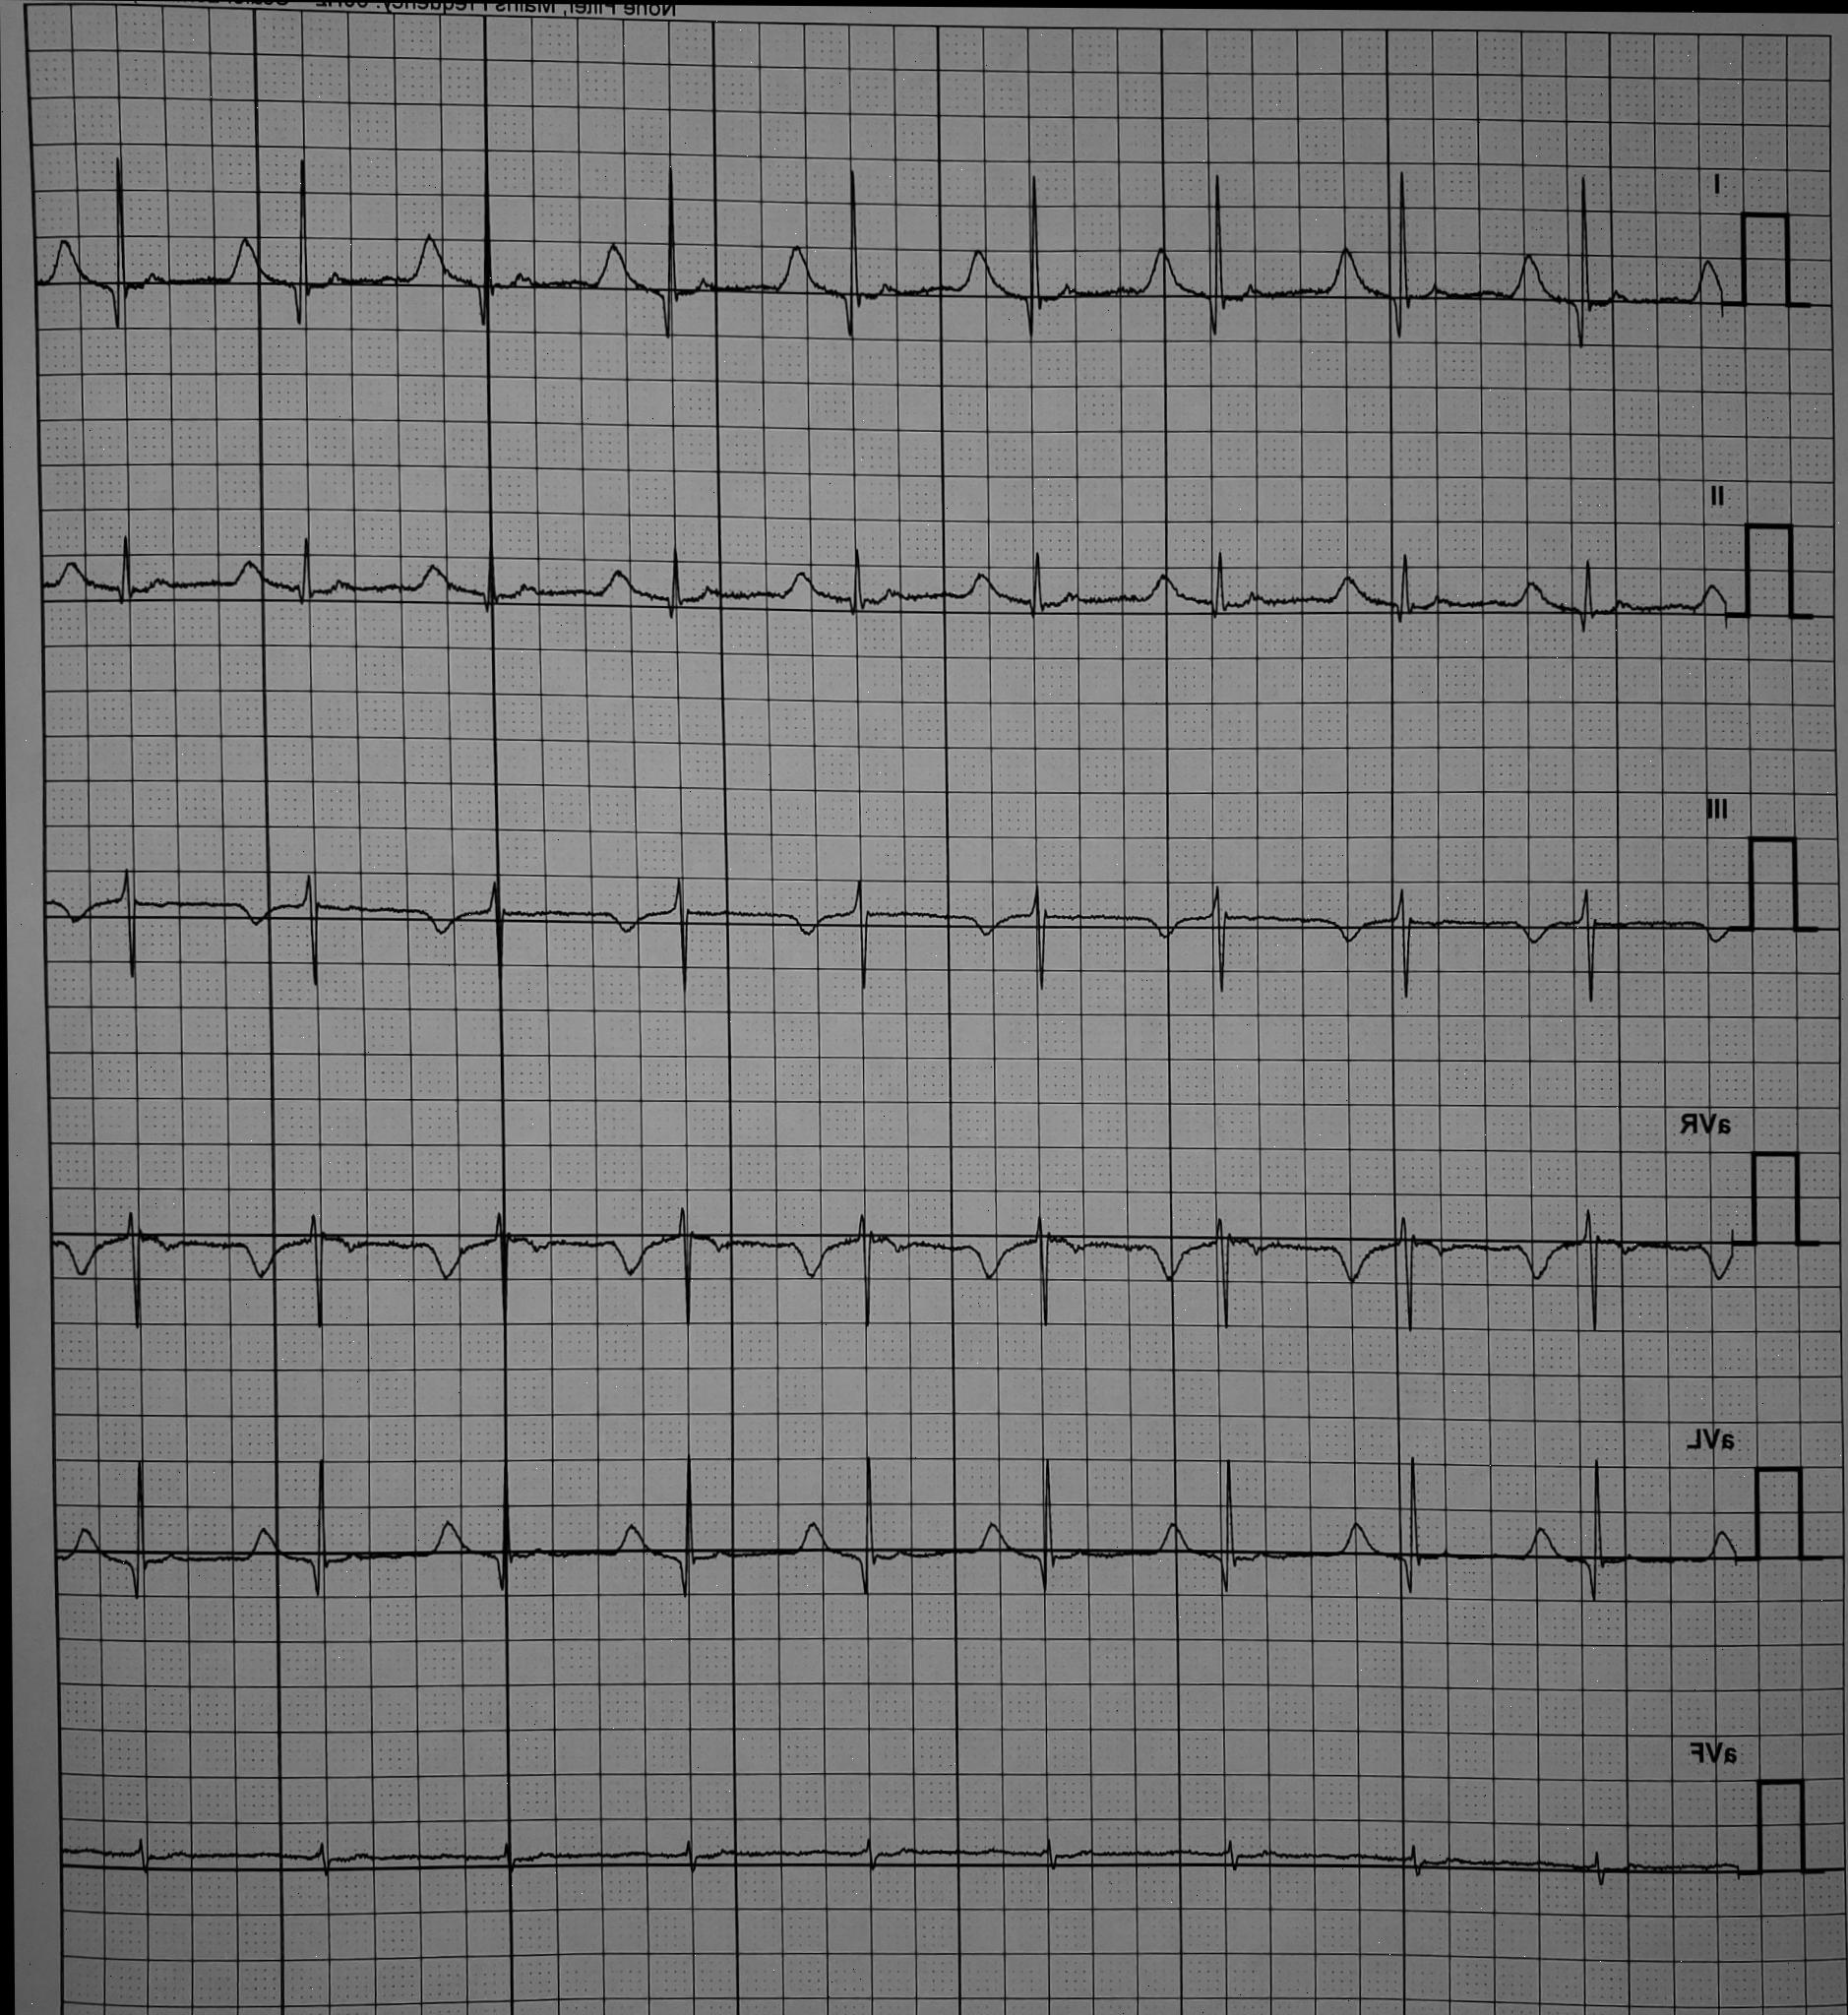Lead_I: (1061, 135, 1733, 365)
Lead_III: (1154, 767, 1745, 1026)
Lead_II_ext: (39, 456, 1740, 655)
Lead_aVF: (1164, 1716, 1751, 1947)
Lead_aVL: (1166, 1390, 1751, 1645)
Lead_aVR: (1164, 1089, 1743, 1350)
